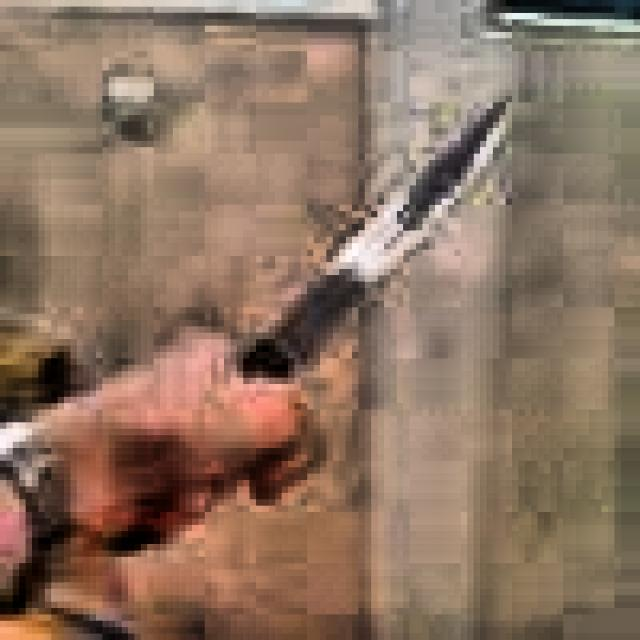knife: (105, 91, 511, 561)
